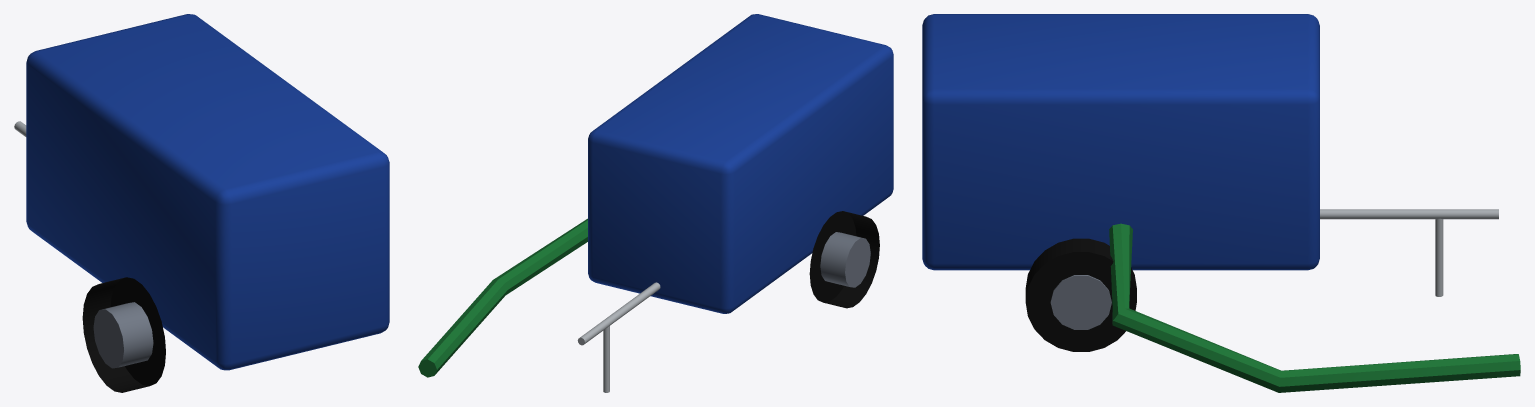
The model's file is plant.small.pump.glb.
3 renders of one model, left to right at view 1: azimuth 30°, elevation 25°; view 2: azimuth 150°, elevation 25°; view 3: azimuth 270°, elevation 25°, orthographic. The views are drawn at different scales.
Visible parts, largest first — view 1: main__plastic_blue, main__rubber, main__steel_painted; view 2: main__plastic_blue, main__plastic_green, main__rubber, main__steel_painted, main__steel_galvanised; view 3: main__plastic_blue, main__plastic_green, main__rubber, main__steel_painted, main__steel_galvanised.
Boxes of the visible parts, x1=… form: main__plastic_blue: x1=26, y1=14, x2=389, y2=370; main__rubber: x1=82, y1=277, x2=165, y2=392; main__steel_painted: x1=93, y1=302, x2=153, y2=368; main__plastic_blue: x1=588, y1=14, x2=893, y2=313; main__plastic_green: x1=418, y1=218, x2=587, y2=377; main__rubber: x1=809, y1=211, x2=879, y2=308; main__steel_painted: x1=820, y1=232, x2=870, y2=287; main__steel_galvanised: x1=577, y1=282, x2=660, y2=392; main__plastic_blue: x1=922, y1=14, x2=1319, y2=270; main__plastic_green: x1=1109, y1=223, x2=1520, y2=392; main__rubber: x1=1025, y1=238, x2=1136, y2=351; main__steel_painted: x1=1050, y1=275, x2=1111, y2=329; main__steel_galvanised: x1=1320, y1=209, x2=1498, y2=296.
Bounding box in the file's own units: 1.95 × 1.35 × 3.01.
